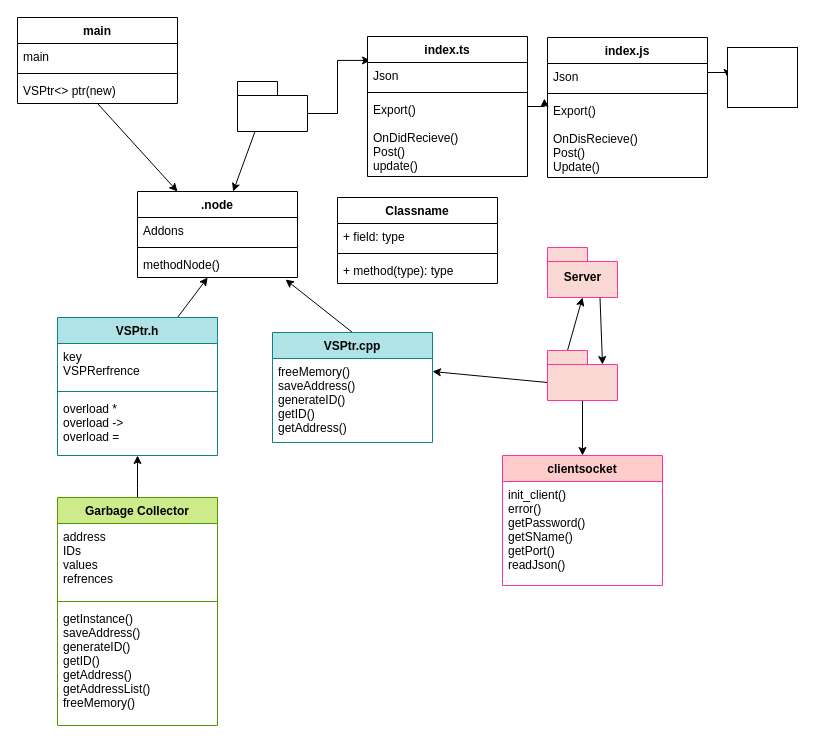
The diagram is 815 pixels wide and 746 high, and some of its shapes have lost their labels. The shapes that lost their labels are listed below. From the top down, each one's centre as x and y in pixels, then its label:
(762,77): My HTML
(272,106): build
(582,375): Client
